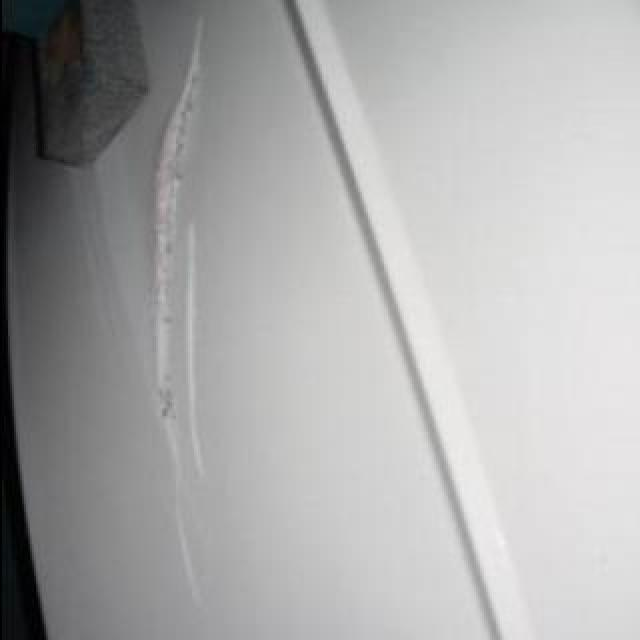crack: (147, 17, 205, 609)
